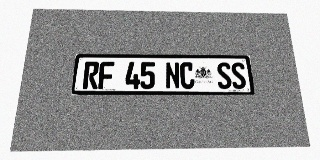4: (125, 62, 140, 89)
5: (140, 62, 155, 89)
C: (180, 62, 195, 89)
F: (98, 62, 114, 89)
N: (165, 62, 180, 89)
R: (83, 61, 99, 89)
S: (230, 62, 247, 89), (216, 62, 232, 89)
